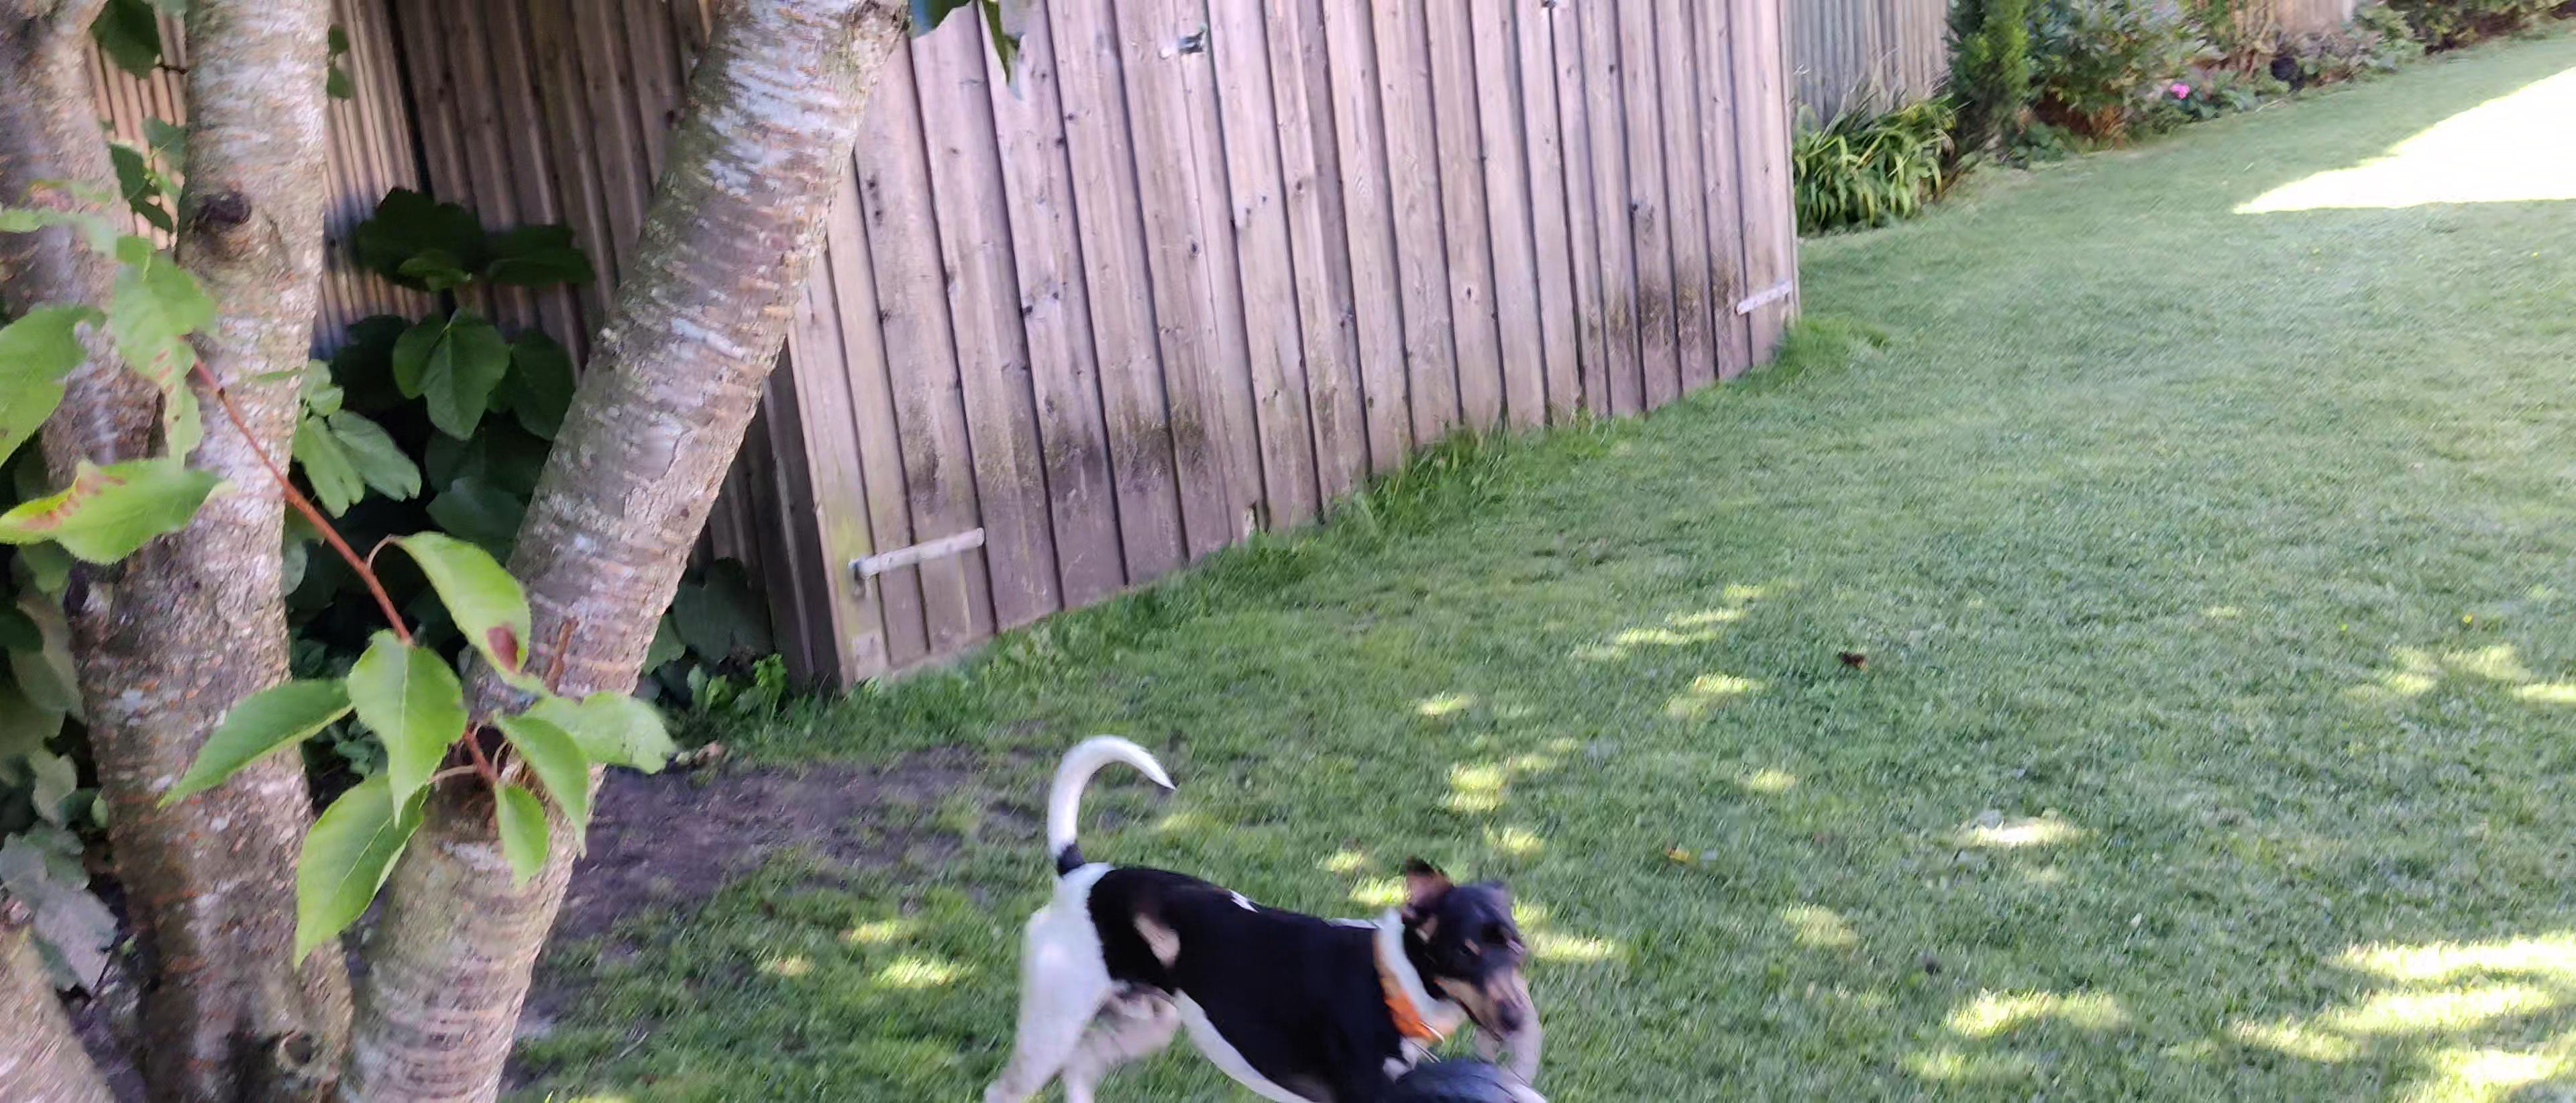Dog: (977, 728, 1529, 1103)
